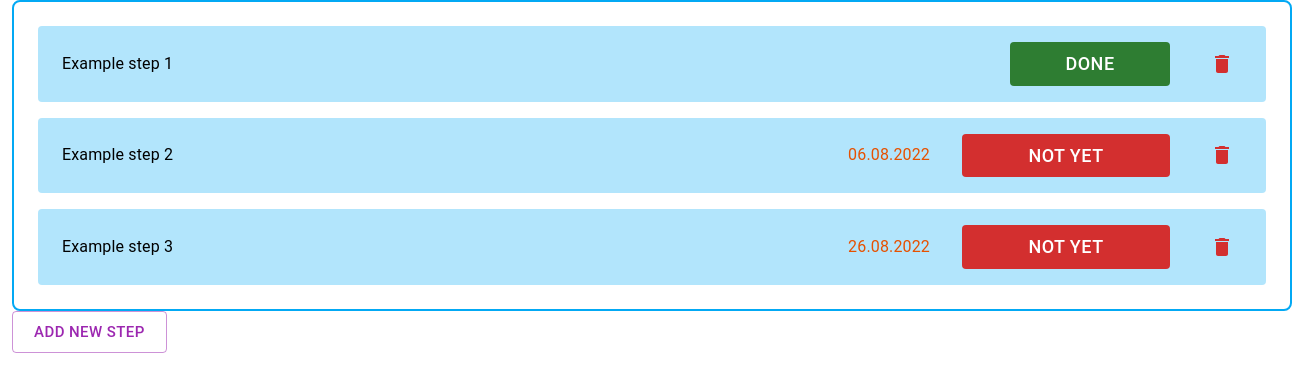
Test: Steps › sends request to add step
This screenshot has width=1292, height=370.
Expected: the number of list items is 3, [38,26,1266,102]; [38,118,1266,193]; [38,209,1266,284]
Click the button "Add new step".
click(89, 332)  # box [12,310,167,353]
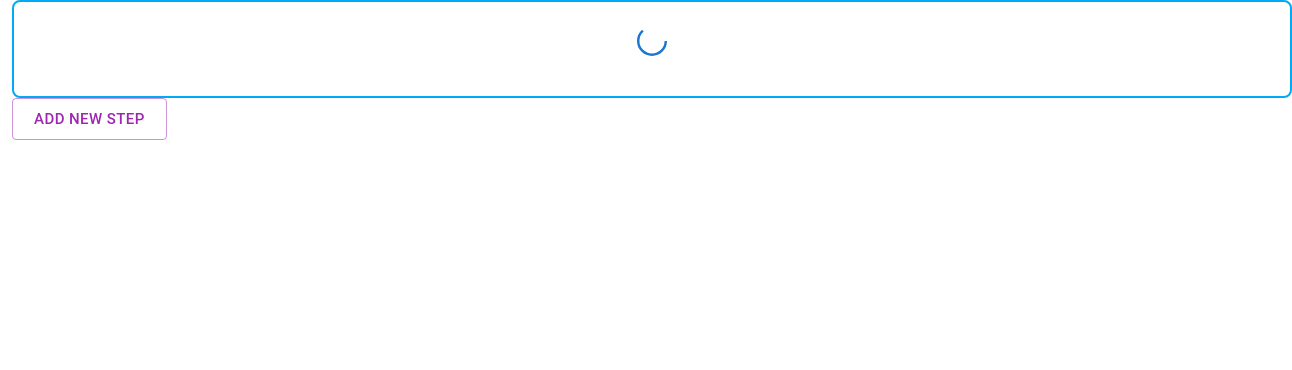
Result: the progress indicator is shown at [637,26,667,56]
